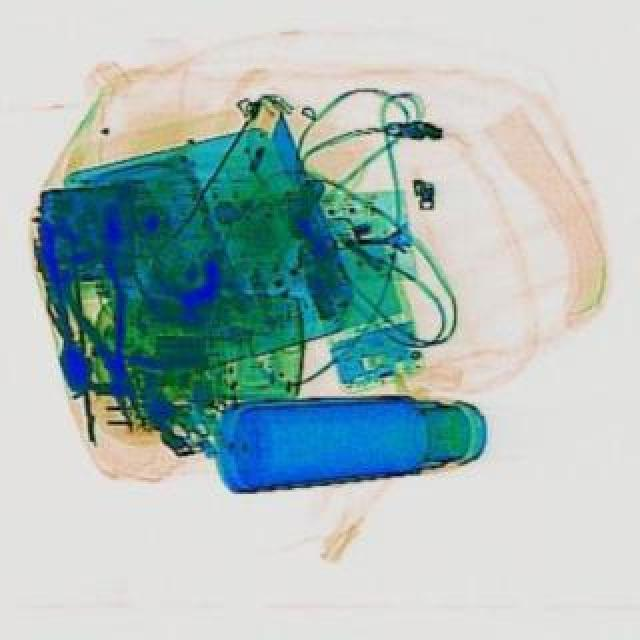wrench: (42, 204, 172, 438)
